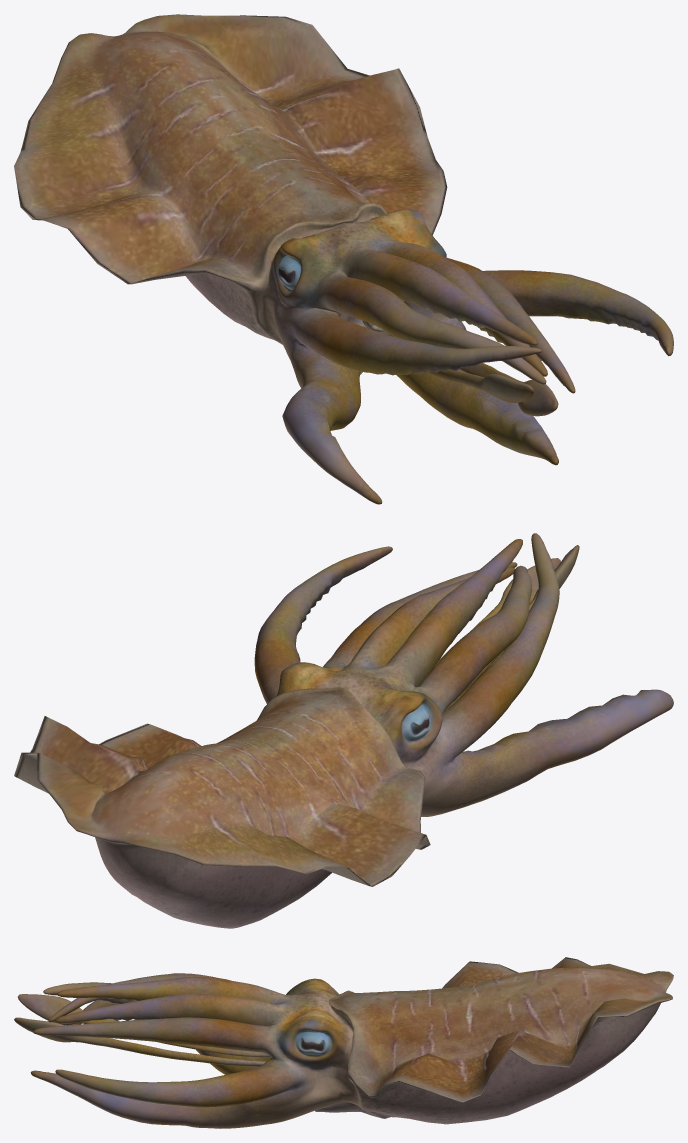
The model's file is squid.glb.
3 views of the same model, one above another, from view 1: azimuth 30°, elevation 25°; view 2: azimuth 150°, elevation 25°; view 3: azimuth 270°, elevation 25° (orthographic). The views are drawn at different scales.
Parts seen in each view (by area): view 1: Squid; view 2: Squid; view 3: Squid.
Part boxes in pixels (x1=…): Squid: x1=14, y1=14, x2=673, y2=504; Squid: x1=14, y1=533, x2=673, y2=928; Squid: x1=14, y1=957, x2=673, y2=1128.
Bounding box in the file's own units: 0.4746 × 0.252 × 1.
Materials: 1 (1 with a texture image).
